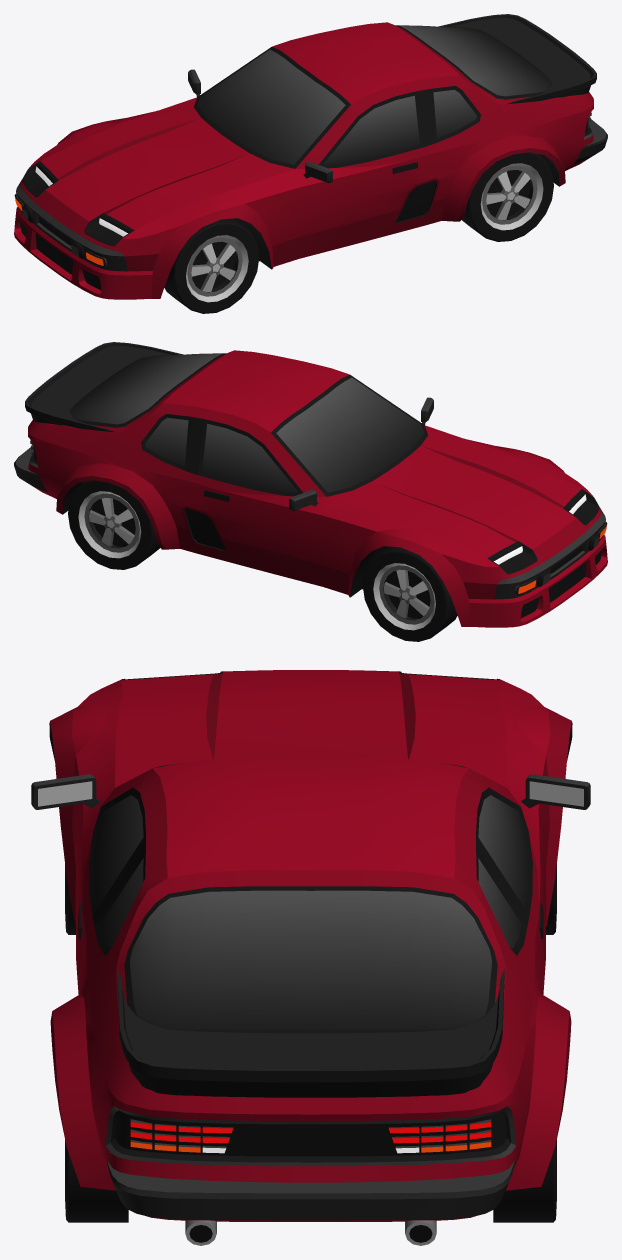
The model's file is Car_203.glb.
3 renders of one model, top to bottom at view 1: azimuth 30°, elevation 25°; view 2: azimuth 150°, elevation 25°; view 3: azimuth 270°, elevation 25°, orthographic. The views are drawn at different scales.
Parts seen in each view (by area): view 1: Car_203, wheel_3_Car_203_Wheel_2R, wheel_1_Car_203_Wheel_1R; view 2: Car_203, wheel_2_Car_203_Wheel_2L, wheel_0_Car_203_Wheel_1L; view 3: Car_203, wheel_1_Car_203_Wheel_1R, wheel_0_Car_203_Wheel_1L.
Part boxes in pixels (x1=…): Car_203: x1=14, y1=14, x2=607, y2=299; wheel_3_Car_203_Wheel_2R: x1=164, y1=218, x2=259, y2=313; wheel_1_Car_203_Wheel_1R: x1=461, y1=152, x2=553, y2=241; Car_203: x1=14, y1=342, x2=607, y2=627; wheel_2_Car_203_Wheel_2L: x1=362, y1=546, x2=457, y2=641; wheel_0_Car_203_Wheel_1L: x1=68, y1=480, x2=160, y2=569; Car_203: x1=31, y1=670, x2=590, y2=1245; wheel_1_Car_203_Wheel_1R: x1=65, y1=1140, x2=128, y2=1222; wheel_0_Car_203_Wheel_1L: x1=493, y1=1140, x2=556, y2=1222.
Bounding box in the file's own units: 4.34 × 1.31 × 2.02.
2 materials, 2 textured.
